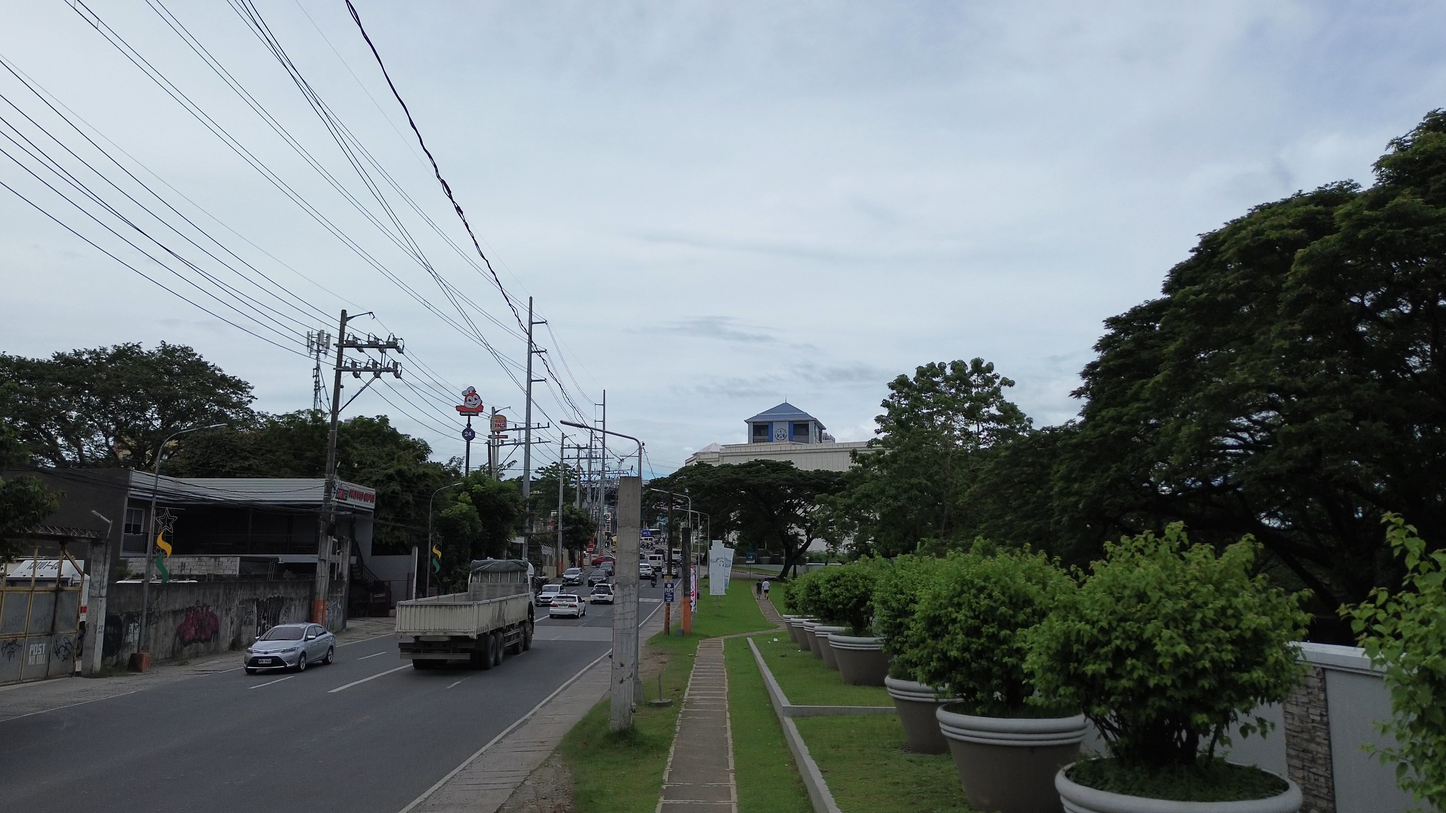car: (244, 624, 334, 674), (549, 594, 586, 618), (535, 584, 561, 606)
truck: (396, 560, 534, 668)
vehicle: (589, 584, 613, 604), (587, 568, 609, 587), (562, 567, 582, 585), (639, 562, 654, 578)
